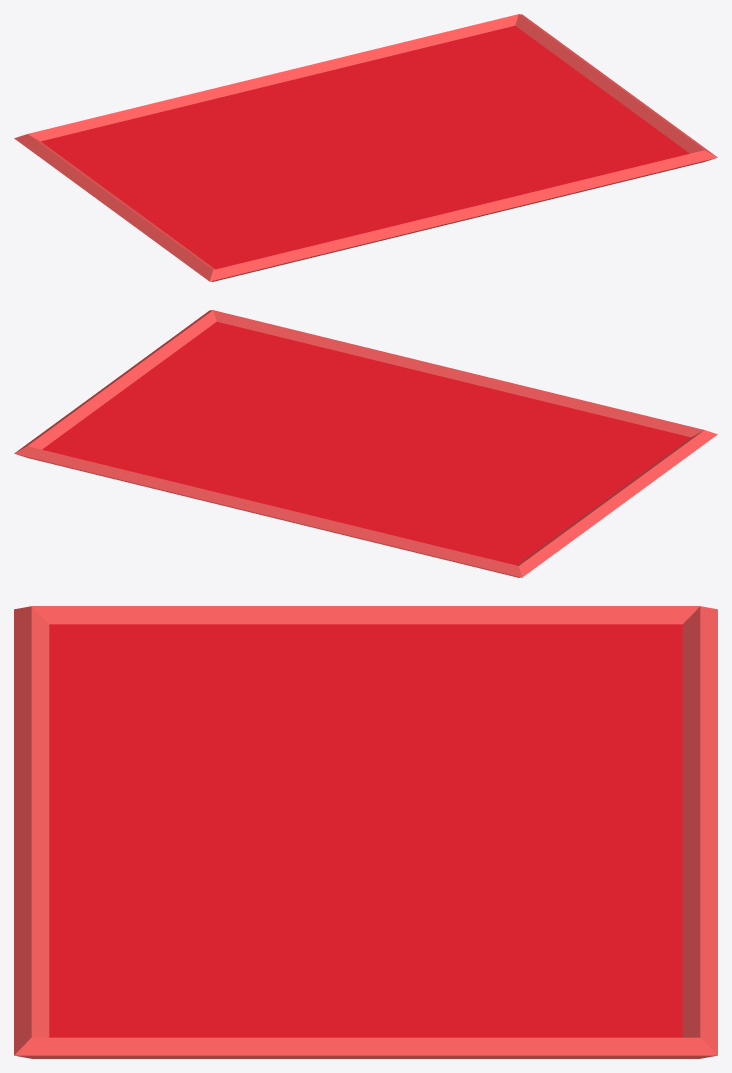
File: Carpet.fbx
3 renders of one model, top to bottom at view 1: azimuth 30°, elevation 25°; view 2: azimuth 150°, elevation 25°; view 3: azimuth 270°, elevation 25°, orthographic. The views are drawn at different scales.
Parts seen in each view (by area): view 1: Carpet; view 2: Carpet; view 3: Carpet.
Boxes of the visible parts, x1,y1,x2,y2 form: Carpet: [14, 14, 717, 281]; Carpet: [14, 310, 717, 577]; Carpet: [14, 606, 717, 1058].
Bounding box in the file's own units: 1.8 × 1.2 × 0.04.
